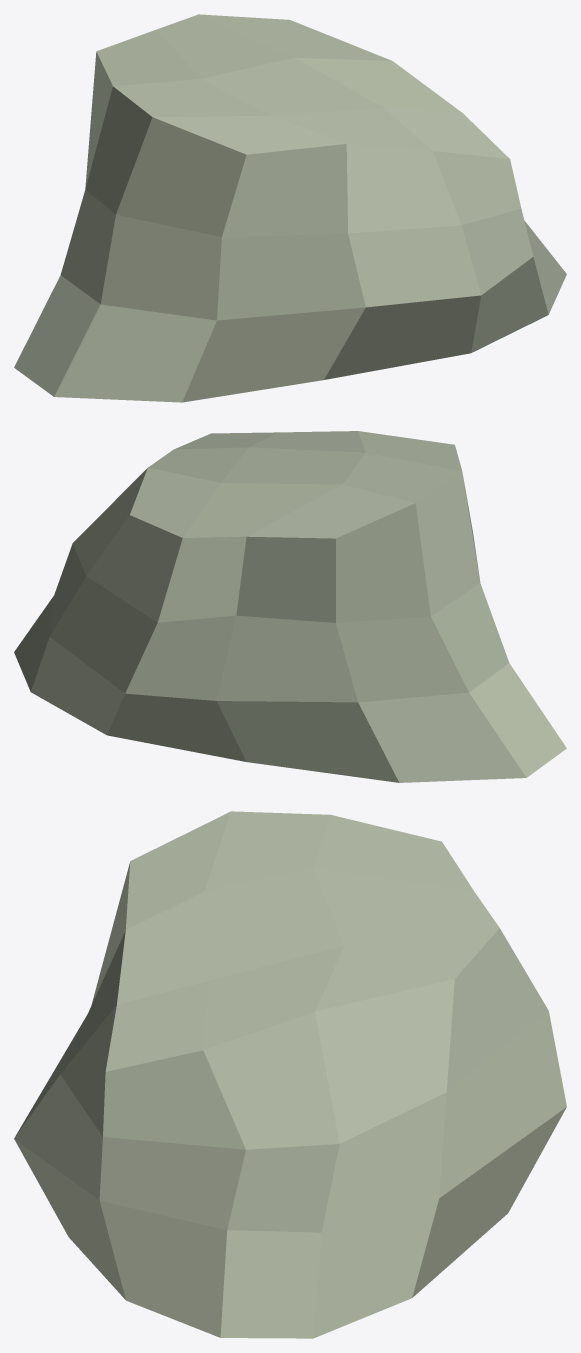
File: Rock_12Color2.fbx
3 renders of one model, top to bottom at view 1: azimuth 30°, elevation 25°; view 2: azimuth 150°, elevation 25°; view 3: azimuth 270°, elevation 25°, orthographic. The views are drawn at different scales.
Parts seen in each view (by area): view 1: Rock_12; view 2: Rock_12; view 3: Rock_12.
Part boxes in pixels (x1,y1,x2,y2): Rock_12: (14, 14, 566, 402); Rock_12: (14, 431, 566, 782); Rock_12: (14, 811, 566, 1338).
Bounding box in the file's own units: 491 × 233 × 396.
